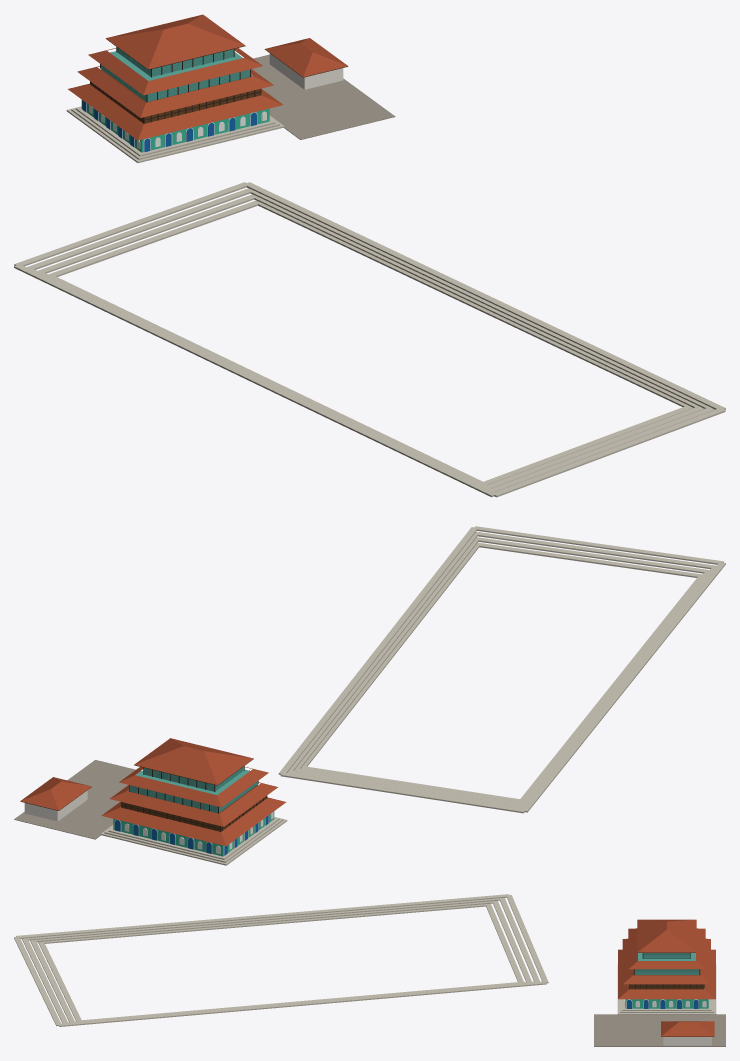
Rendered from mishkal.glb.
3 views of the same model, one above another, from view 1: azimuth 30°, elevation 25°; view 2: azimuth 150°, elevation 25°; view 3: azimuth 270°, elevation 25° (orthographic). The views are drawn at different scales.
Visible parts, largest first — view 1: mishkal; view 2: mishkal; view 3: mishkal.
Boxes of the visible parts, box(x1,y1,x2,y2) form: mishkal: box(14, 14, 725, 497); mishkal: box(14, 526, 725, 865); mishkal: box(14, 894, 725, 1046).
Size of the model in its own units: 103 by 21.01 by 206.
